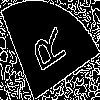R: (24, 25, 68, 79)
